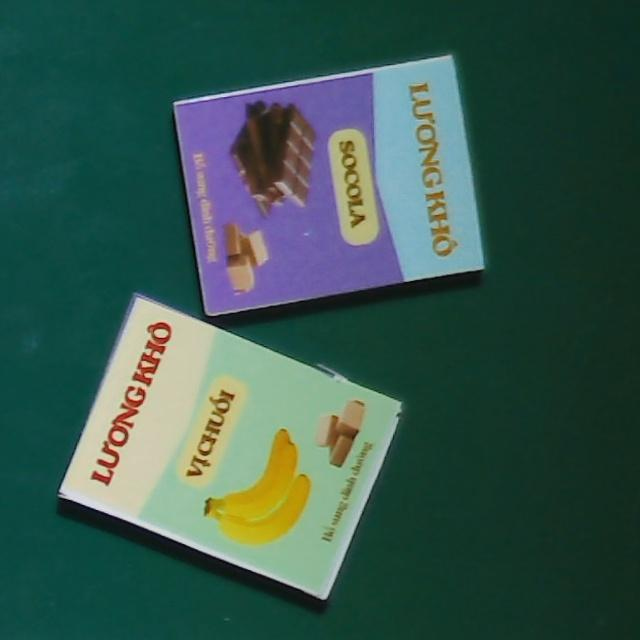chuoi: (52, 293, 405, 605)
socola: (169, 55, 489, 316)
